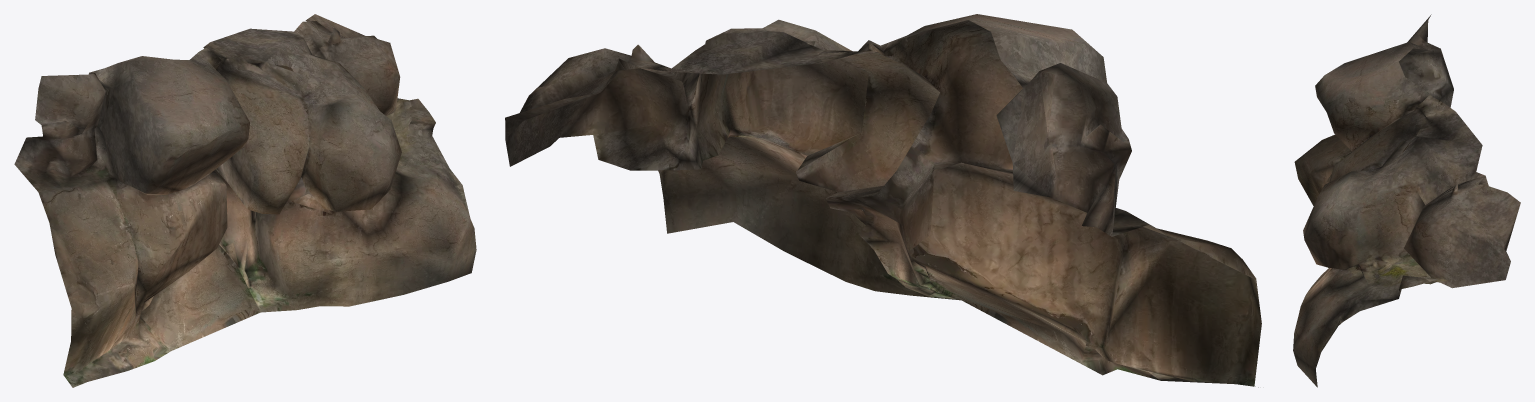
File: ph_namaqualand_cliff_01_lod1.glb
3 views of the same model, side by side, from view 1: azimuth 30°, elevation 25°; view 2: azimuth 150°, elevation 25°; view 3: azimuth 270°, elevation 25° (orthographic). The views are drawn at different scales.
Visible parts, largest first — view 1: drone_rock_01; view 2: drone_rock_01; view 3: drone_rock_01.
Part boxes in pixels (x1=…): drone_rock_01: x1=14, y1=14, x2=476, y2=387; drone_rock_01: x1=505, y1=14, x2=1261, y2=387; drone_rock_01: x1=1293, y1=14, x2=1520, y2=387.
Size of the model in its own units: 8.26 by 4.95 by 4.37.
Materials: 1 (1 with a texture image).
